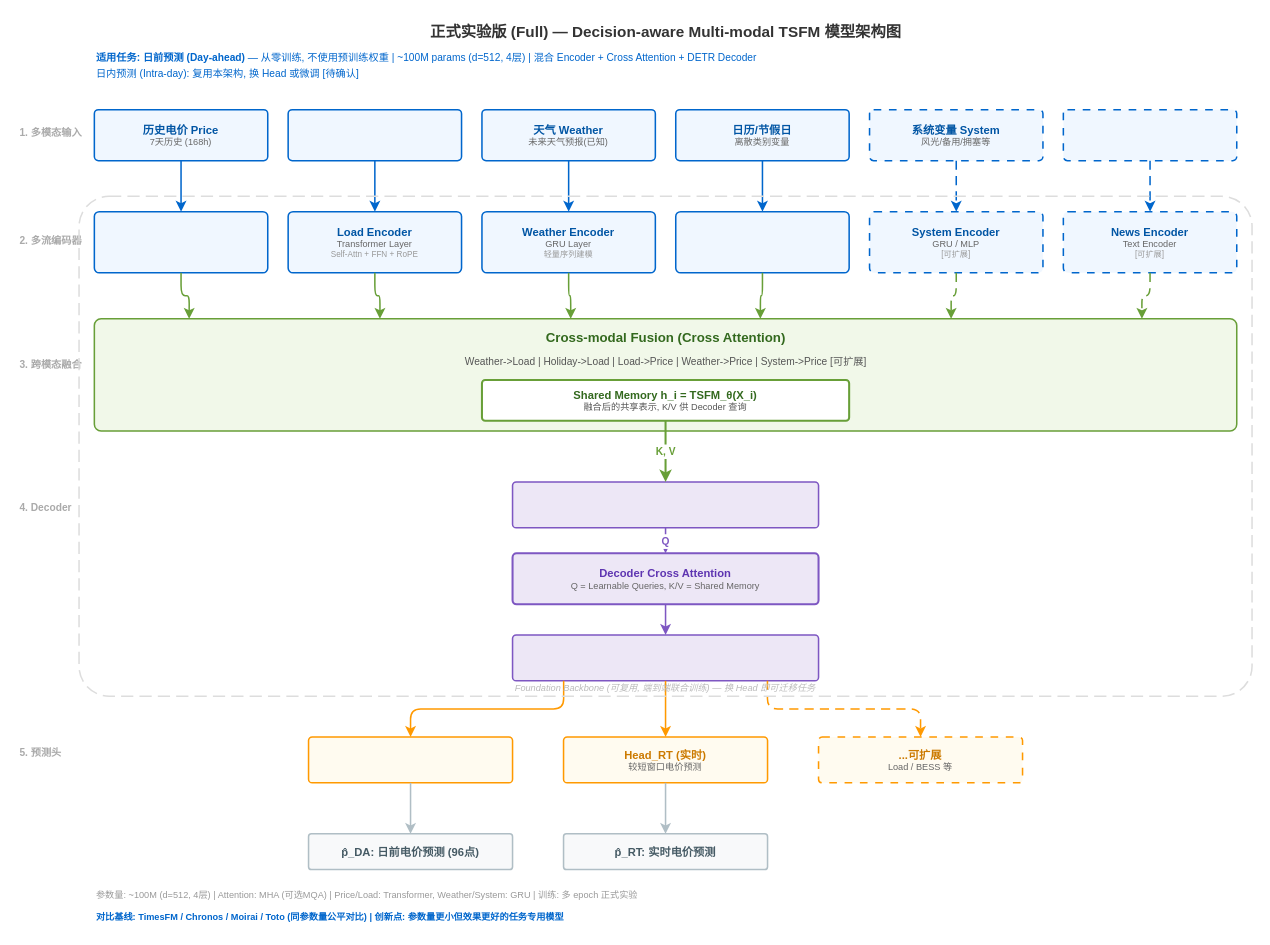
Some shapes in this 1270 by 945 pixel diagram are drawn without their labels. The centre of each missing label's shape, as x and y in pixels:
"96 Learnable Queries 每个 Query 对应未来一个时间点 (非自回归)" goes at [665,504].
"Event Encoder Embedding 类别变量编码" goes at [762,241].
"Forecast Representation 96 × d_model, 一次 Forward 输出" goes at [665,657].
"Head_DA (日前) 较长窗口电价预测 (H24/H48)" goes at [410,759].
"Price Encoder Transformer Layer Self-Attn + FFN + RoPE" goes at [180,241].
"历史负荷 Load 7天历史 (168h)" goes at [374,134].
"新闻 News 已发布的市场新闻" goes at [1149,134].
